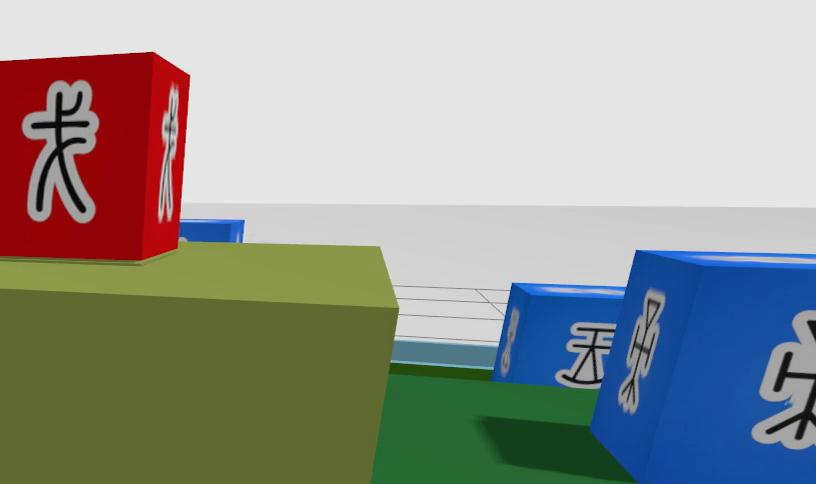KFS_FAKE: (0, 52, 190, 262), (24, 82, 99, 221)
KFS_REAL: (591, 250, 815, 484), (492, 283, 624, 389), (752, 310, 815, 449), (617, 289, 665, 414), (555, 322, 615, 386)
